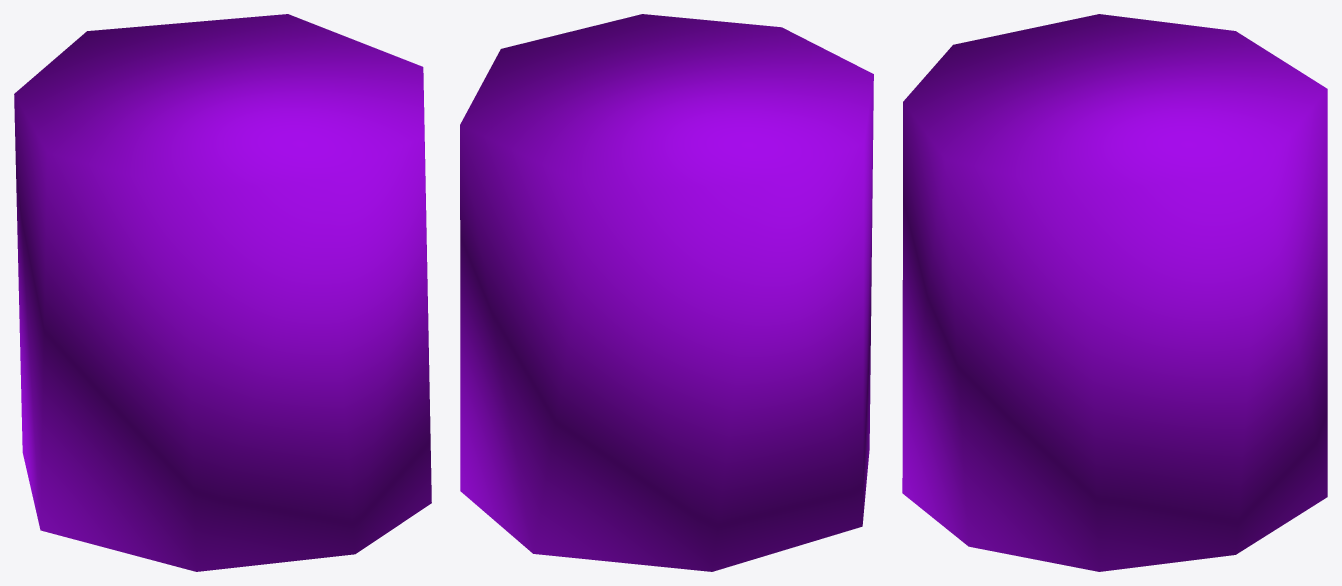
3 views of the same model, side by side, from view 1: azimuth 30°, elevation 25°; view 2: azimuth 150°, elevation 25°; view 3: azimuth 270°, elevation 25° (orthographic).
Visible parts, largest first — view 1: Cylinder; view 2: Cylinder; view 3: Cylinder.
Part boxes in pixels (x1=…): Cylinder: x1=14, y1=14, x2=431, y2=571; Cylinder: x1=460, y1=14, x2=873, y2=571; Cylinder: x1=902, y1=14, x2=1327, y2=571.
Size of the model in its own units: 206 by 200 by 204.
